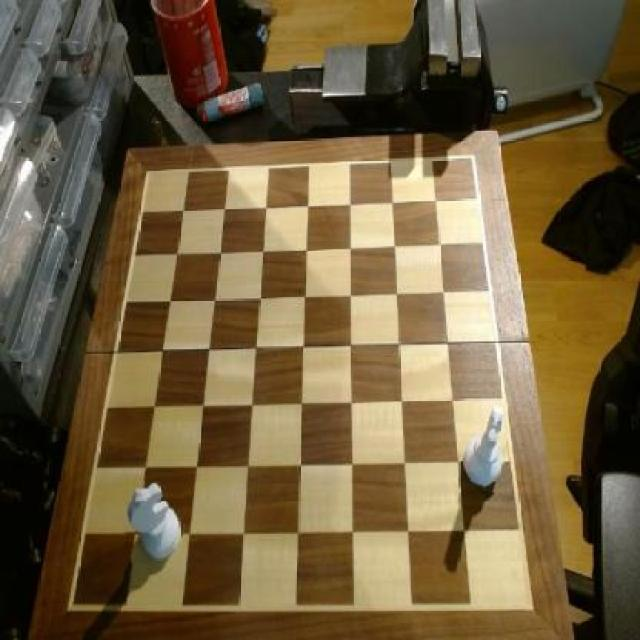white-king: (124, 480, 184, 565), (462, 400, 508, 492)
